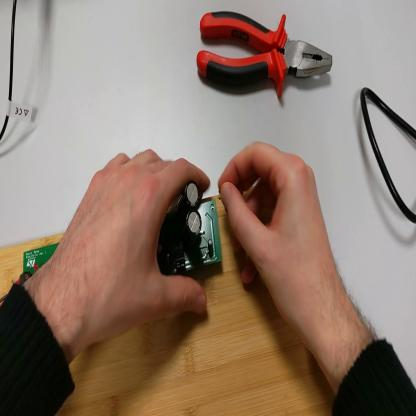hand: (56, 145, 211, 346), (223, 141, 342, 338)
high voltage board: (16, 183, 223, 285)
pliers: (194, 13, 336, 101)
working area: (3, 234, 334, 416)
